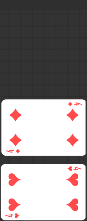4H: (4, 212, 20, 220)
